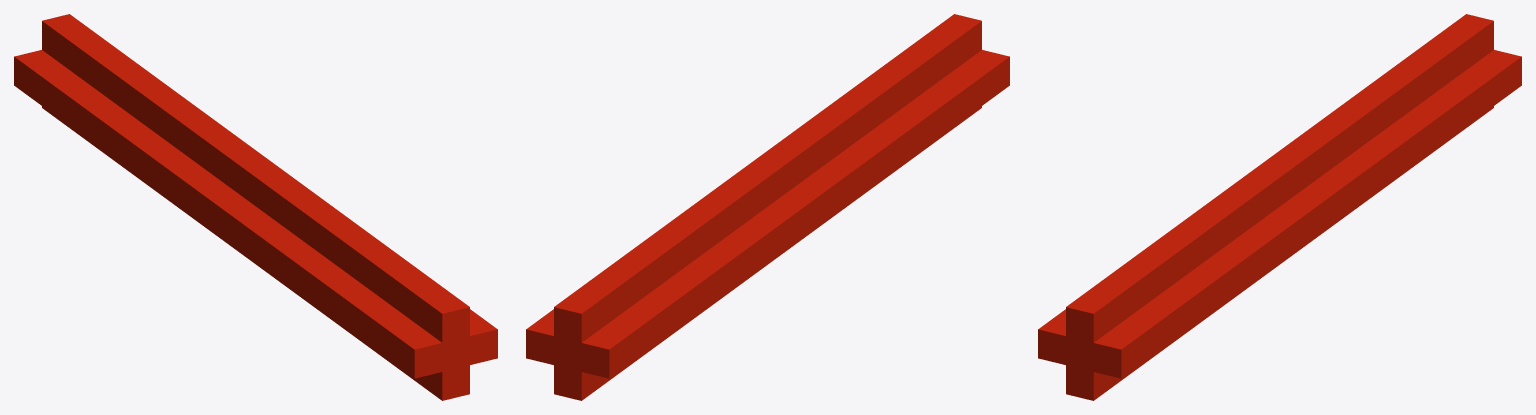
File: wire_vertical.dae
The picture shows the model from 3 angles, left to right: view 1: azimuth 30°, elevation 25°; view 2: azimuth 150°, elevation 25°; view 3: azimuth 330°, elevation 25°; orthographic projection.
Parts seen in each view (by area): view 1: wire_vertical; view 2: wire_vertical; view 3: wire_vertical.
Part boxes in pixels (box(x1,y1,x2,y2)): wire_vertical: box(14, 14, 497, 400); wire_vertical: box(526, 14, 1009, 400); wire_vertical: box(1038, 14, 1521, 400).
Bounding box in the file's own units: 3 × 25 × 3.
